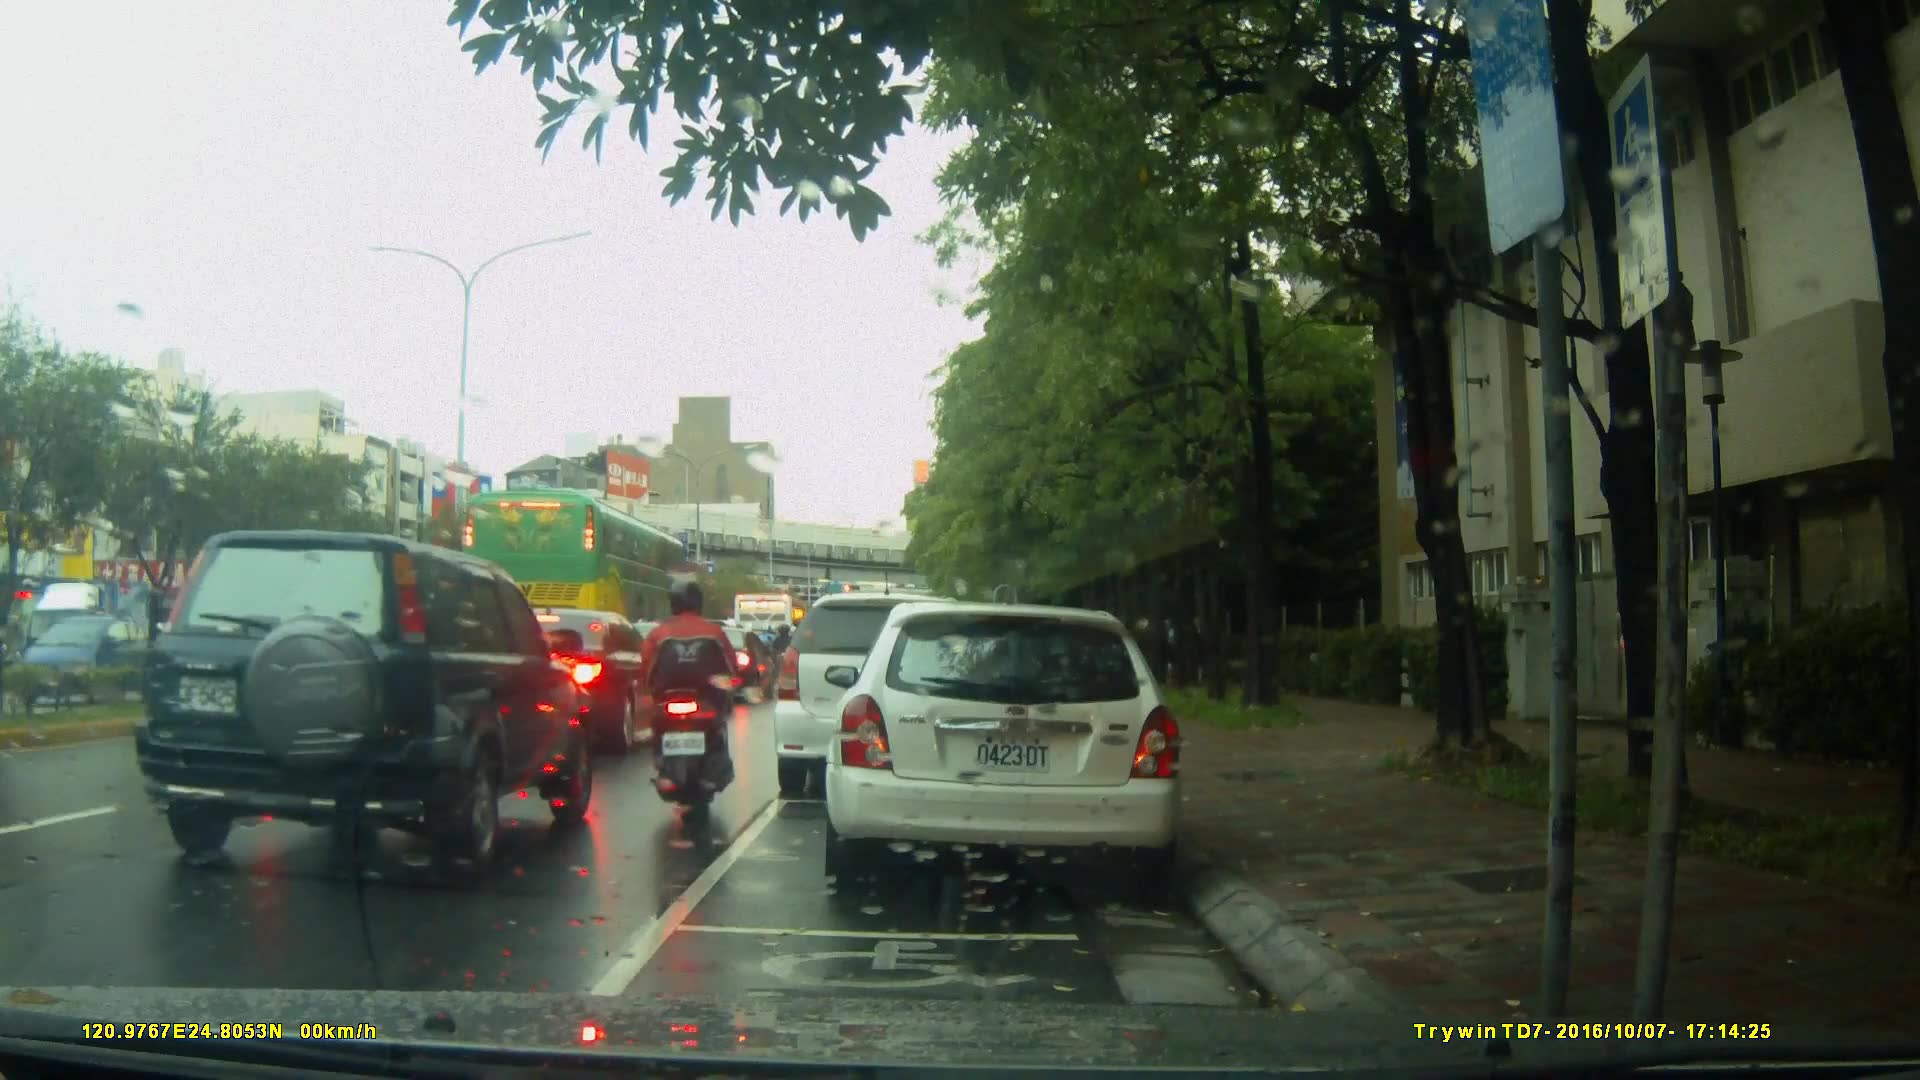rider: (635, 583, 737, 831)
vehicle: (126, 527, 611, 863), (831, 592, 1196, 897), (771, 593, 999, 801), (462, 488, 691, 659), (482, 607, 682, 756), (22, 576, 164, 684), (16, 616, 164, 703), (613, 621, 735, 722)
